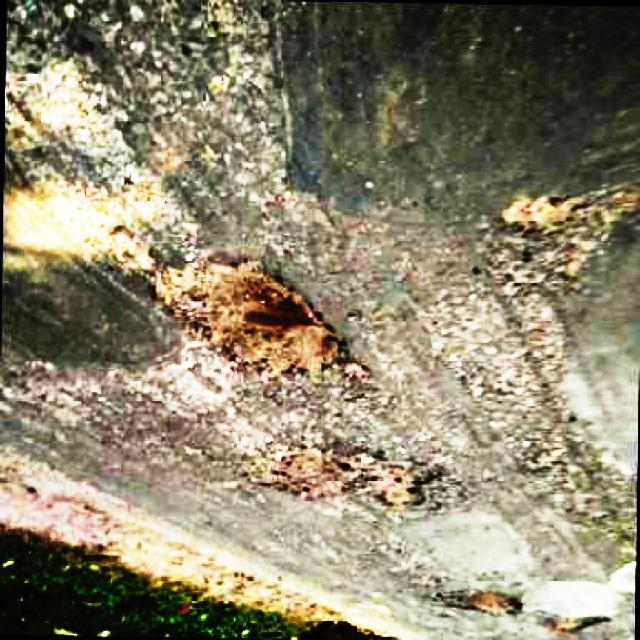pothole: (156, 255, 352, 380), (244, 437, 436, 512), (503, 186, 619, 283), (449, 585, 525, 617)
